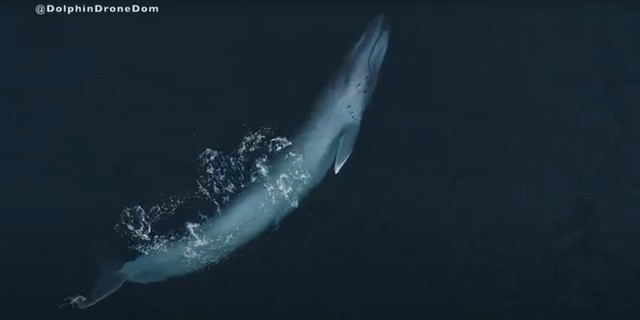whale: (69, 7, 395, 315)
